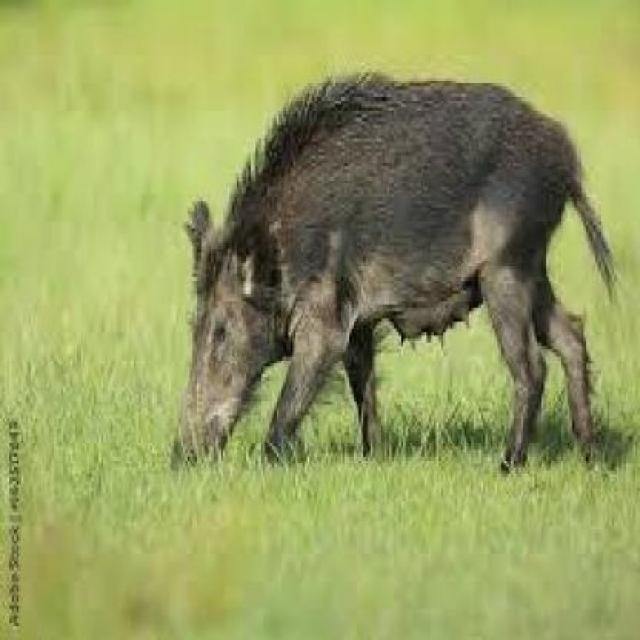wildboar: (166, 63, 628, 479)
